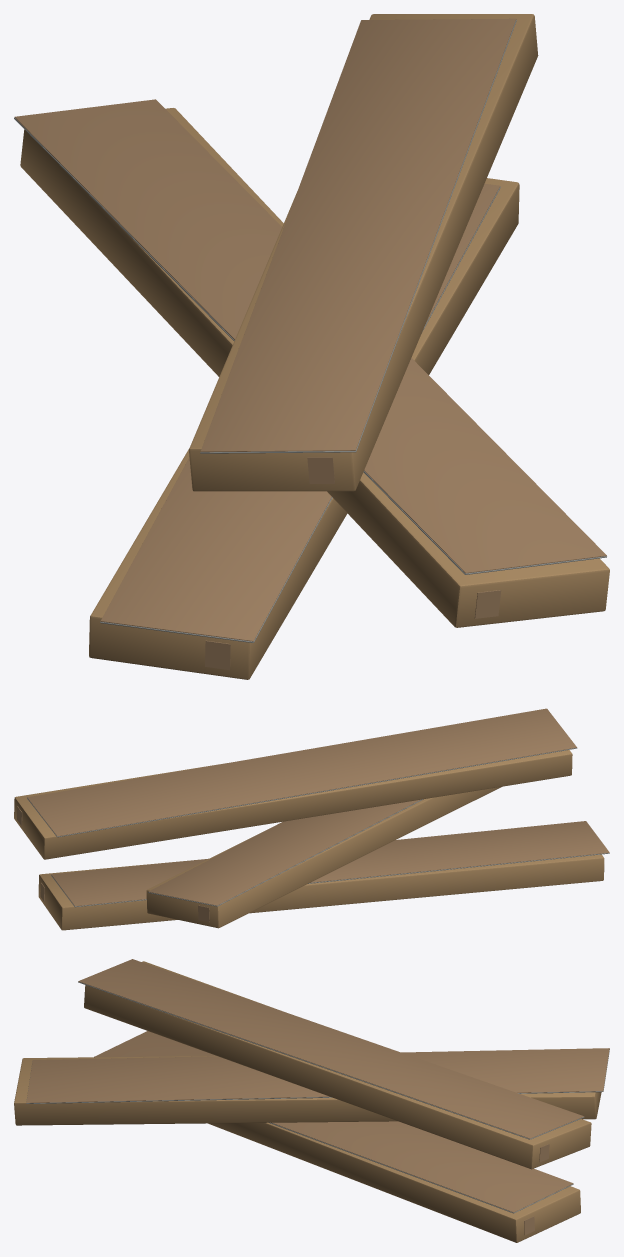
File: PIS-OUT-003_anim.glb
3 renders of one model, top to bottom at view 1: azimuth 30°, elevation 25°; view 2: azimuth 150°, elevation 25°; view 3: azimuth 270°, elevation 25°, orthographic. The views are drawn at different scales.
Parts seen in each view (by area): view 1: PIS-OUT-003_anim2, PIS-OUT-003_anim1, PIS-OUT-003_anim0; view 2: PIS-OUT-003_anim2, PIS-OUT-003_anim0, PIS-OUT-003_anim1; view 3: PIS-OUT-003_anim2, PIS-OUT-003_anim1, PIS-OUT-003_anim0.
Part boxes in pixels (box(x1,y1,x2,y2)): PIS-OUT-003_anim2: box(189, 14, 538, 491); PIS-OUT-003_anim1: box(14, 99, 609, 627); PIS-OUT-003_anim0: box(89, 178, 519, 679); PIS-OUT-003_anim2: box(14, 708, 577, 859); PIS-OUT-003_anim0: box(38, 821, 609, 930); PIS-OUT-003_anim1: box(146, 786, 501, 928); PIS-OUT-003_anim2: box(78, 959, 591, 1169); PIS-OUT-003_anim1: box(14, 1048, 609, 1125); PIS-OUT-003_anim0: box(94, 1031, 580, 1242).
Bounding box in the file's own units: 1.05 × 0.2893 × 1.25.
Materials: 6 (4 with a texture image).
